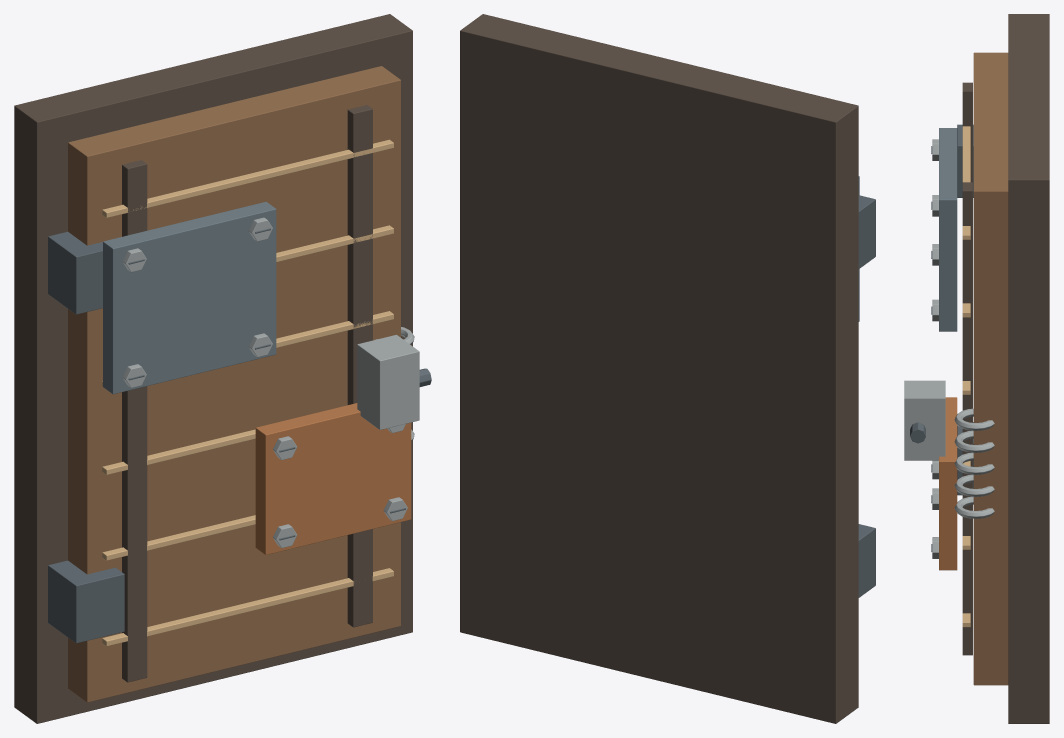
The model's file is 04_Reinforced_Wooden_Door.fbx.
3 views of the same model, side by side, from view 1: azimuth 30°, elevation 25°; view 2: azimuth 150°, elevation 25°; view 3: azimuth 270°, elevation 25° (orthographic). The views are drawn at different scales.
Visible parts, largest first — view 1: 04_Reinforced_Wooden_Door; view 2: 04_Reinforced_Wooden_Door; view 3: 04_Reinforced_Wooden_Door.
Boxes of the visible parts, left/top/right/bottom form: 04_Reinforced_Wooden_Door: left=14, top=14, right=431, bottom=723; 04_Reinforced_Wooden_Door: left=460, top=14, right=875, bottom=723; 04_Reinforced_Wooden_Door: left=904, top=14, right=1049, bottom=723.
Bounding box in the file's own units: 1.7 × 2.6 × 0.63.
